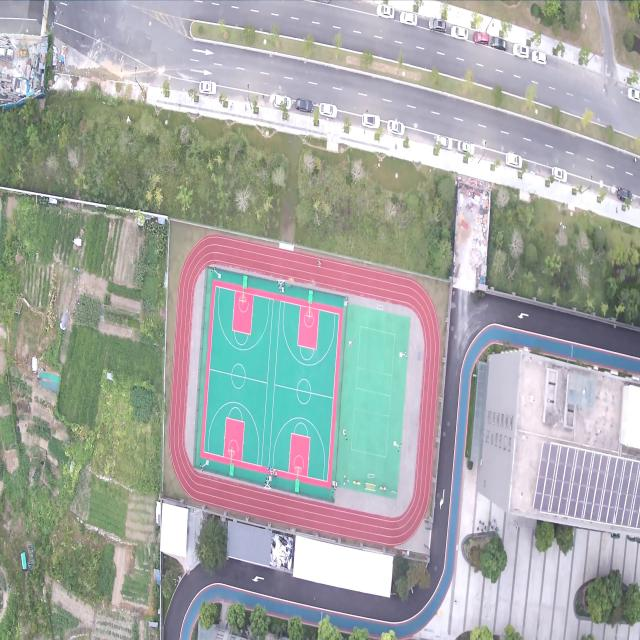UAV: (309, 276, 317, 288)
